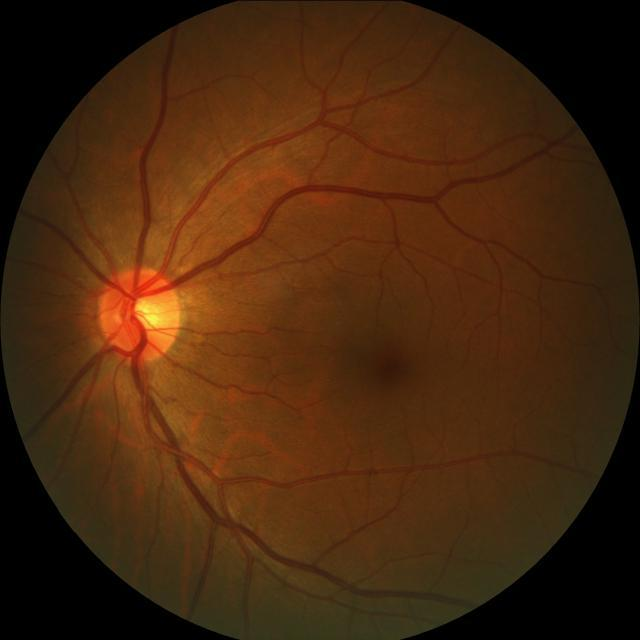OC: (133, 296, 163, 328)
OD: (100, 266, 184, 362)
